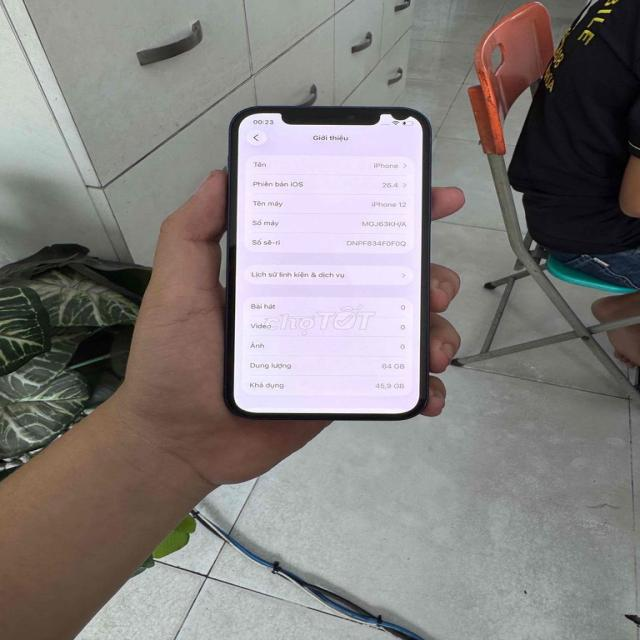gen_12_13: (225, 99, 435, 416)
